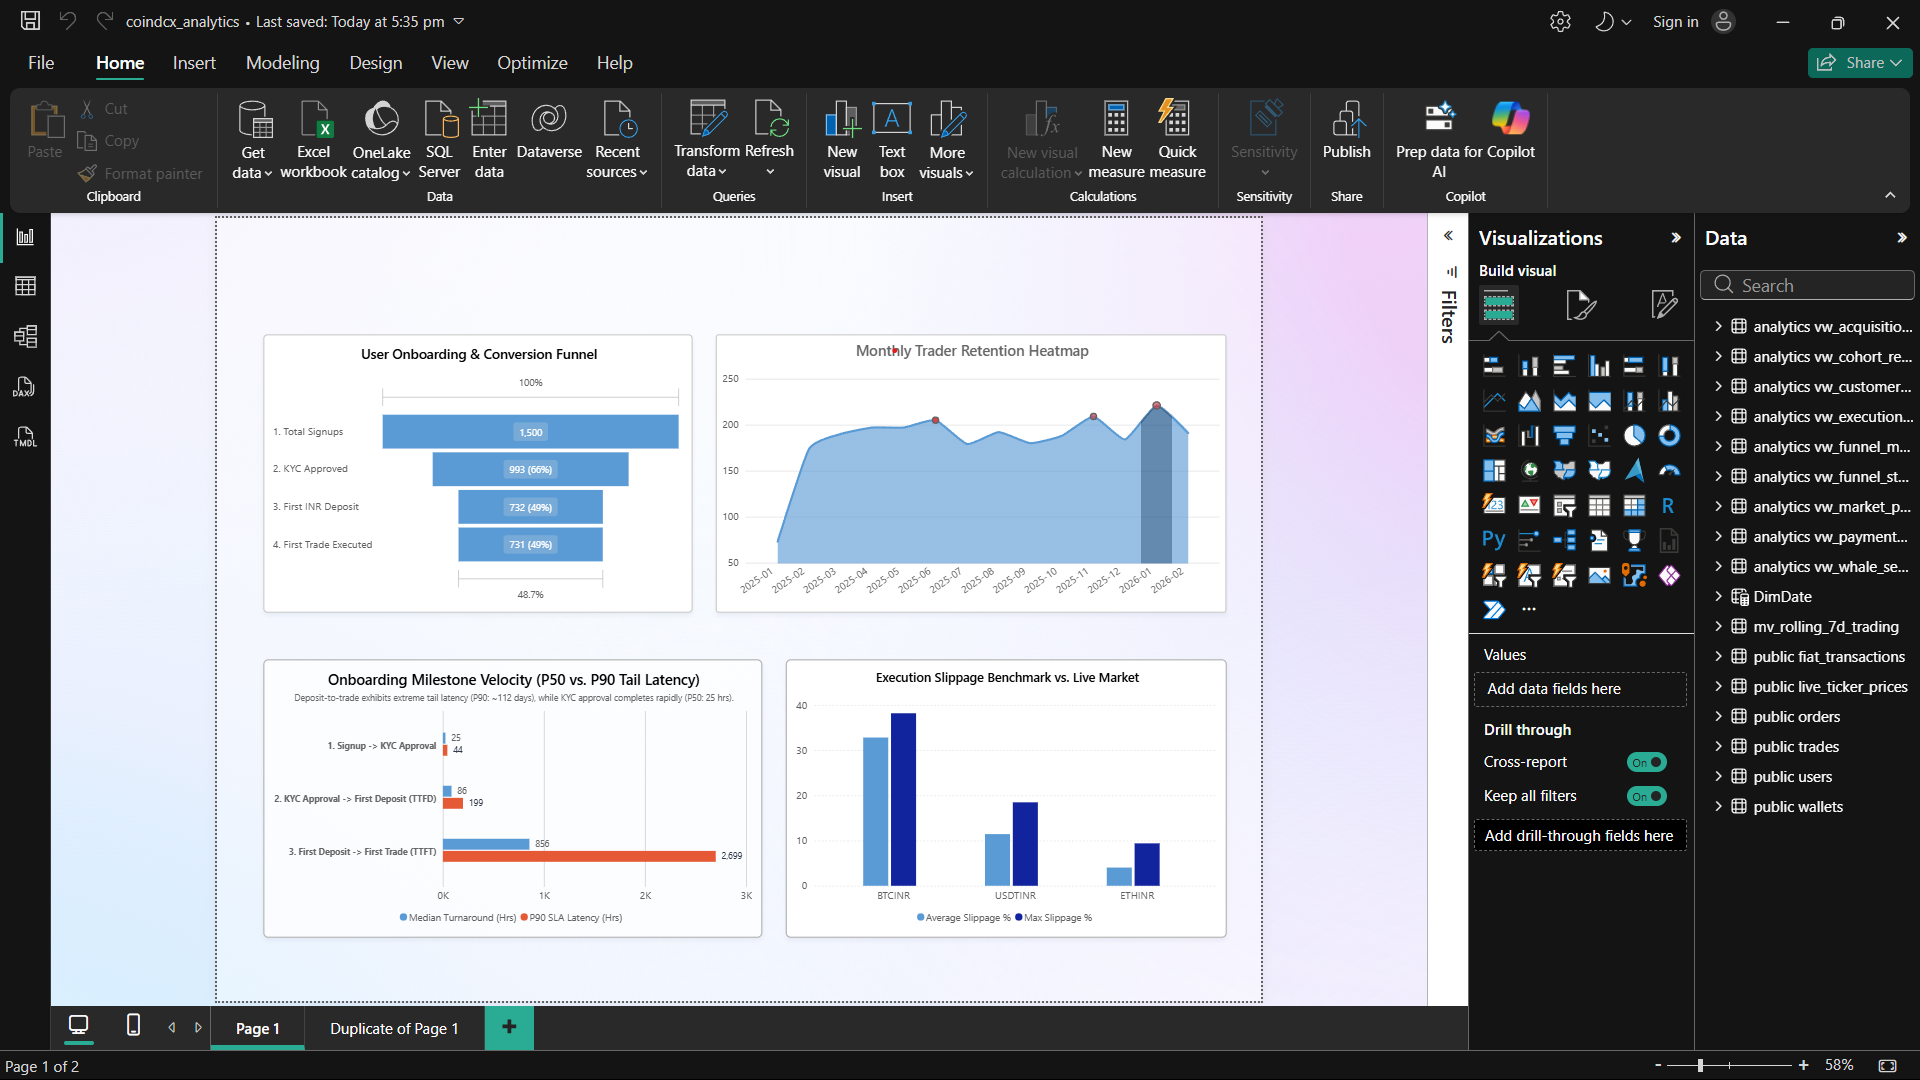

This screenshot's page, from the dashboard's own definition file:
{"tool":"powerbi","page":{"name":"Page 1","canvas":[1440,1080],"ordinal":0},"visuals":[{"type":"funnel","title":"User Onboarding & Conversion Funnel","fields":{"Category":["analytics vw_funnel_stages_unpivoted.stage_name"],"Y":["analytics vw_funnel_stages_unpivoted.User Count"]},"box":[64,160,592,384],"z":2000},{"type":"clusteredBarChart","title":"Onboarding Milestone Velocity (P50 vs. P90 Tail Latency)","fields":{"Category":["analytics vw_funnel_milestone_latencies.funnel_step"],"Y":["Sum(analytics vw_funnel_milestone_latencies.median_latency_hrs)","Sum(analytics vw_funnel_milestone_latencies.p90_latency_hrs)"]},"box":[64,608,688,384],"z":3000},{"type":"lineChart","title":"Monthly Trader Retention Heatmap","fields":{"Category":["analytics vw_cohort_retention_monthly.cohort_month","analytics vw_cohort_retention_monthly.active_month"],"Y":["Sum(analytics vw_cohort_retention_monthly.active_traders)"]},"box":[688,160,704,384],"z":4000},{"type":"clusteredColumnChart","title":"Execution Slippage Benchmark vs. Live Market","fields":{"Category":["analytics vw_execution_slippage.market_pair"],"Y":["Avg(analytics vw_execution_slippage.avg_slippage_pct)","Max(analytics vw_execution_slippage.max_slippage_pct)"]},"box":[784,608,608,384],"z":5000}]}

Visuals, with their boxes in screenshot pixels (x1, y1, x2, y2):
"User Onboarding & Conversion Funnel" funnel: select_region(201, 207, 764, 572)
"Onboarding Milestone Velocity (P50 vs. P90 Tail Latency)" clusteredBarChart: select_region(201, 633, 855, 999)
"Monthly Trader Retention Heatmap" lineChart: select_region(794, 207, 1464, 572)
"Execution Slippage Benchmark vs. Live Market" clusteredColumnChart: select_region(886, 633, 1464, 999)
